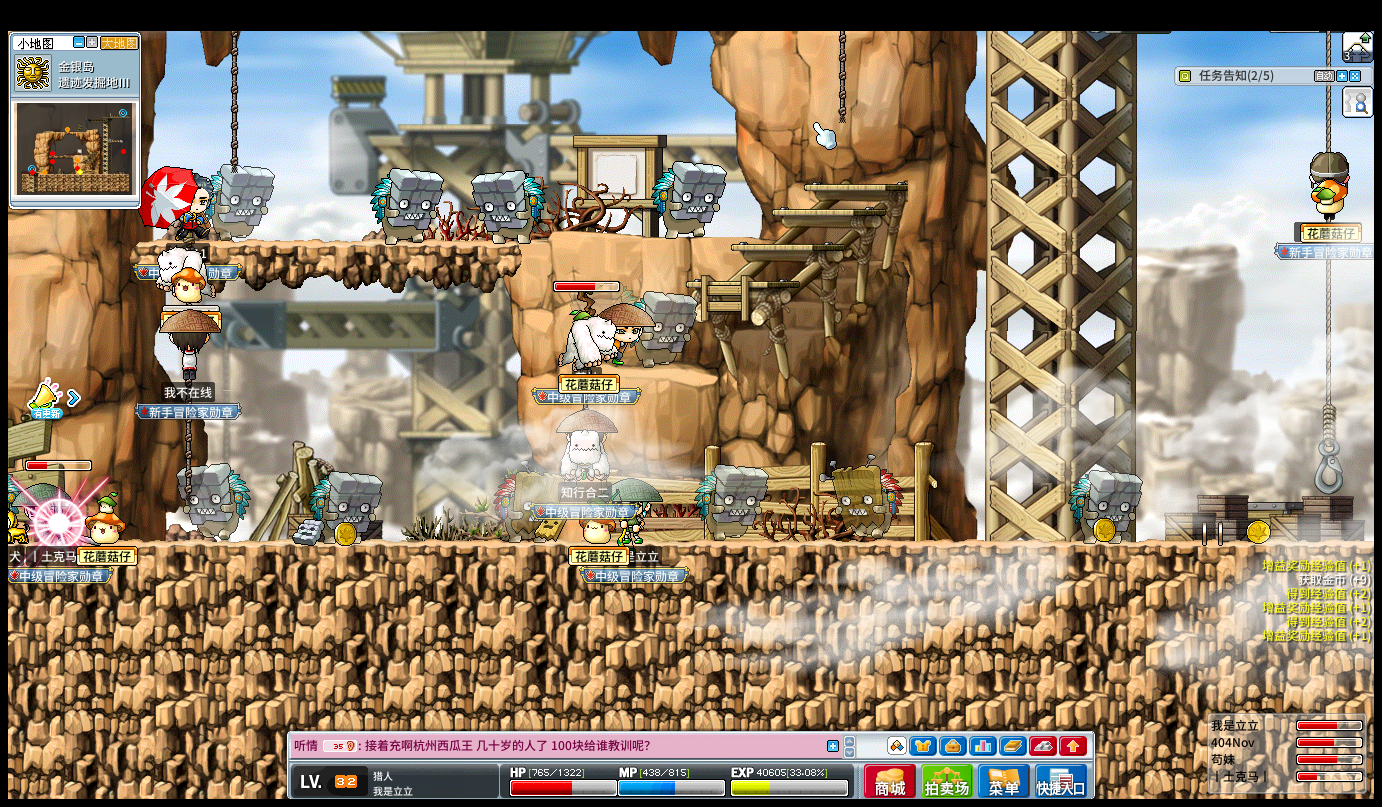floor: (8, 537, 1374, 555), (128, 237, 521, 250), (559, 234, 763, 245), (631, 364, 719, 384), (685, 278, 798, 287), (729, 243, 847, 251), (769, 207, 879, 215), (805, 184, 908, 192)
monster: (825, 455, 905, 539), (492, 460, 568, 544), (694, 463, 768, 540), (652, 160, 725, 238), (1068, 469, 1143, 544), (309, 470, 383, 545), (471, 169, 543, 245), (371, 168, 442, 244), (184, 463, 251, 542), (206, 164, 275, 240), (637, 291, 696, 368)
rope: (1321, 260, 1332, 405), (230, 31, 239, 168), (837, 30, 846, 122), (181, 421, 191, 473)
